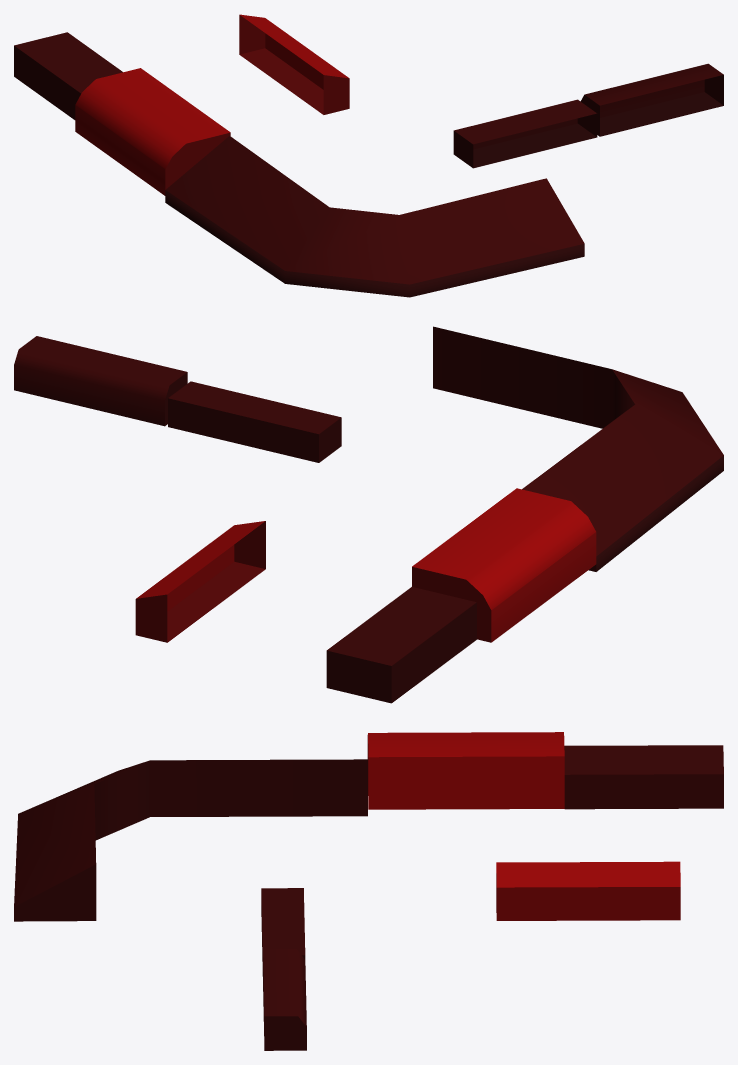
The model's file is color.013.fbx.
3 views of the same model, one above another, from view 1: azimuth 30°, elevation 25°; view 2: azimuth 150°, elevation 25°; view 3: azimuth 270°, elevation 25° (orthographic). The views are drawn at different scales.
Parts seen in each view (by area): view 1: color.013; view 2: color.013; view 3: color.013.
Part boxes in pixels (x1,y1,x2,y2): color.013: (14, 14, 723, 297); color.013: (14, 326, 723, 703); color.013: (14, 732, 723, 1050).
Size of the model in its own units: 2267 by 2093 by 241.
